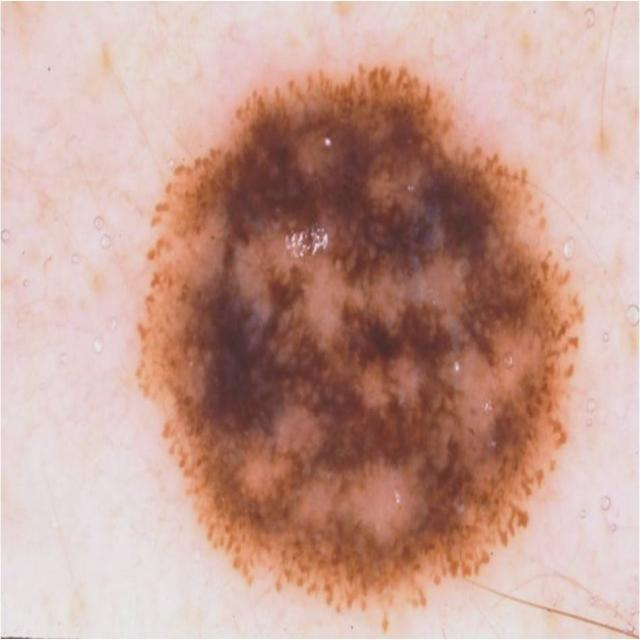Benign: (131, 62, 583, 610)
